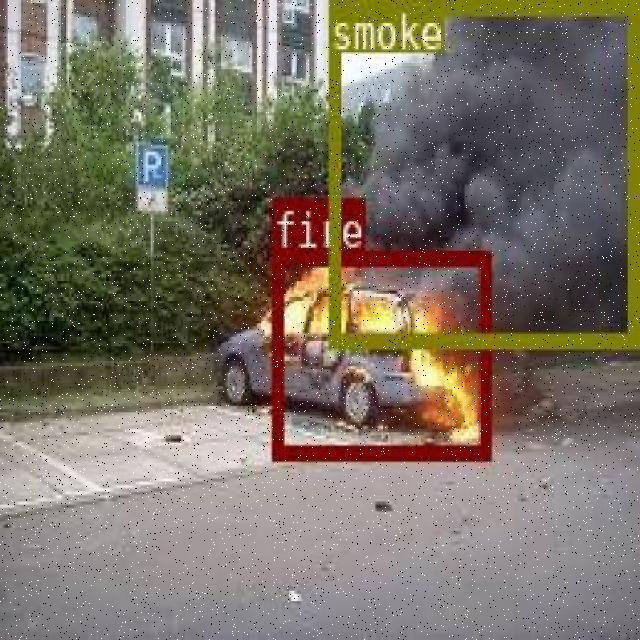Smoke: (327, 0, 635, 279)
